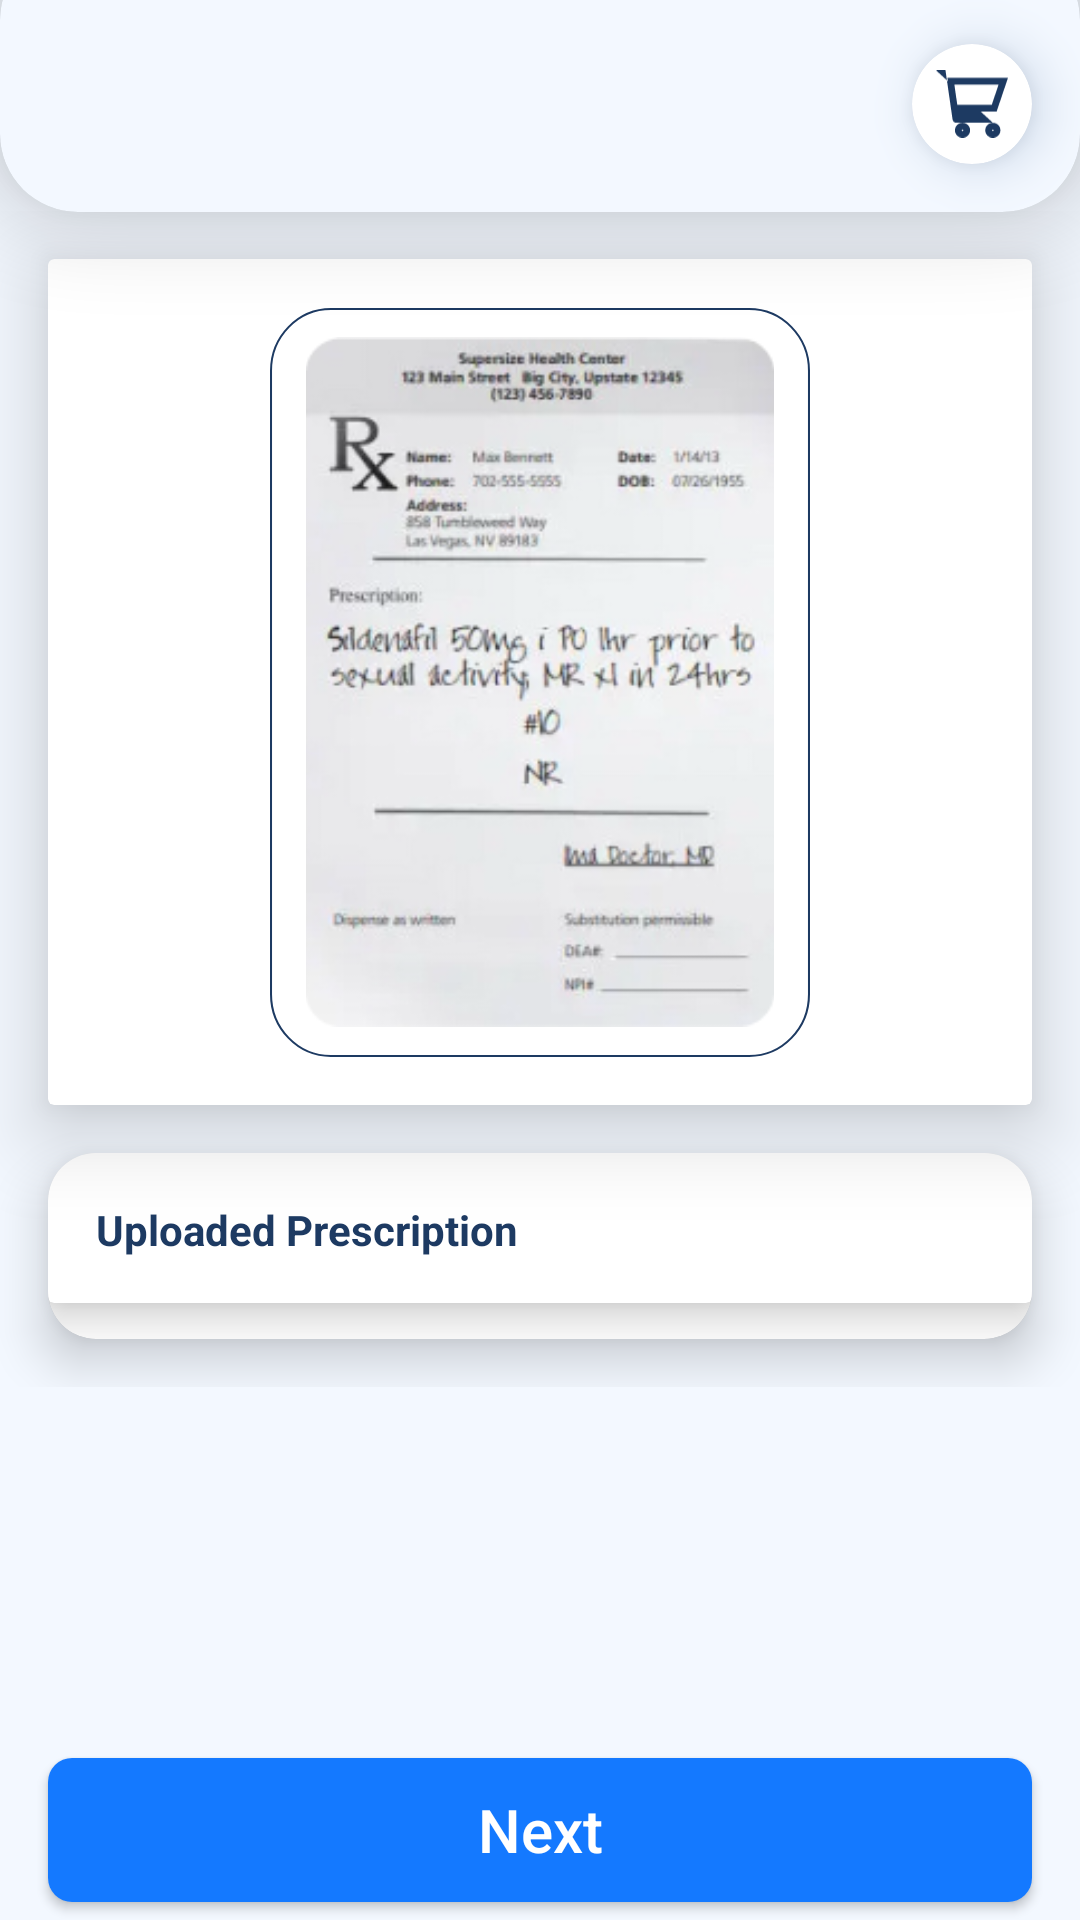

Screen size 1080px×1920px. Icon name, then its center in pixels as (x,y):
cart: (972,104)
